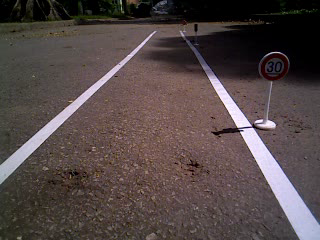limit 30: (257, 49, 293, 85)
